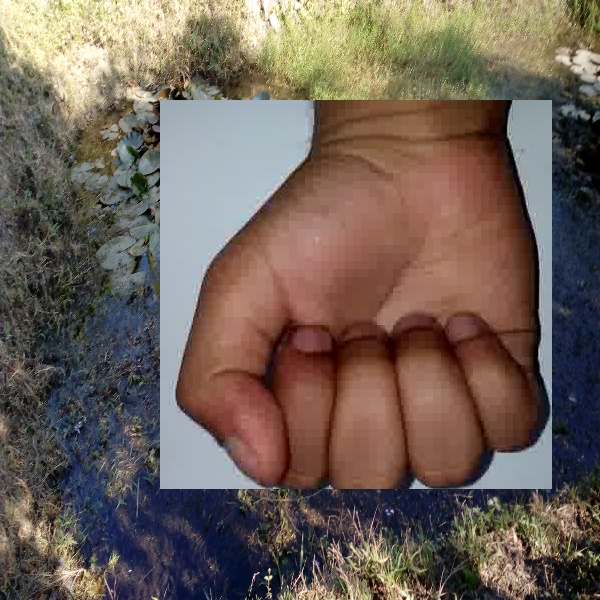A: (160, 100, 552, 489)
